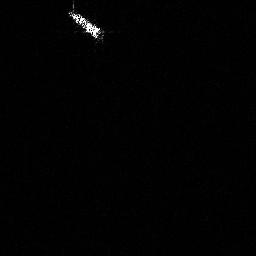ship: (65, 7, 106, 46)
